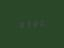eight: (18, 20, 24, 28), (32, 19, 38, 27)
three: (25, 20, 31, 28)
zero: (39, 19, 45, 27)
